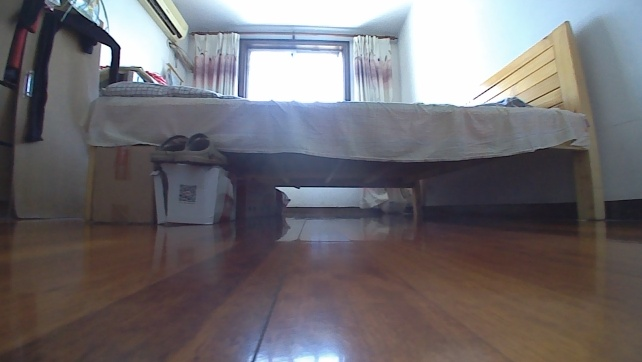bed: (72, 16, 610, 226)
slipper: (145, 130, 230, 165)
